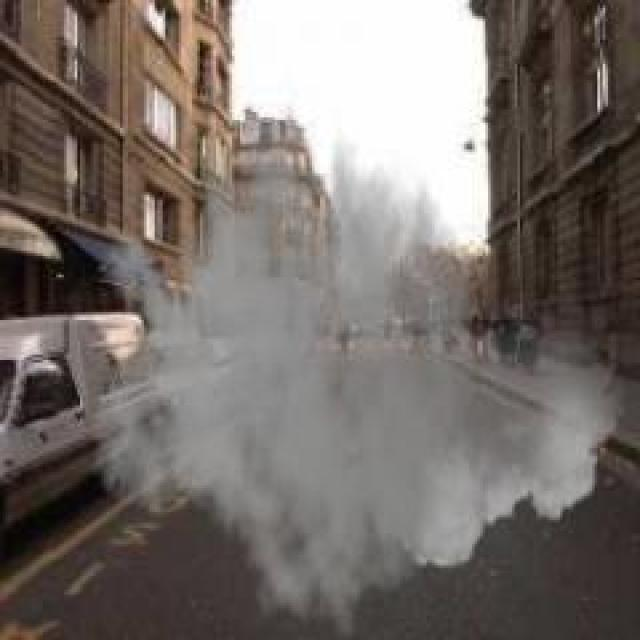smoke: (87, 78, 629, 638)
